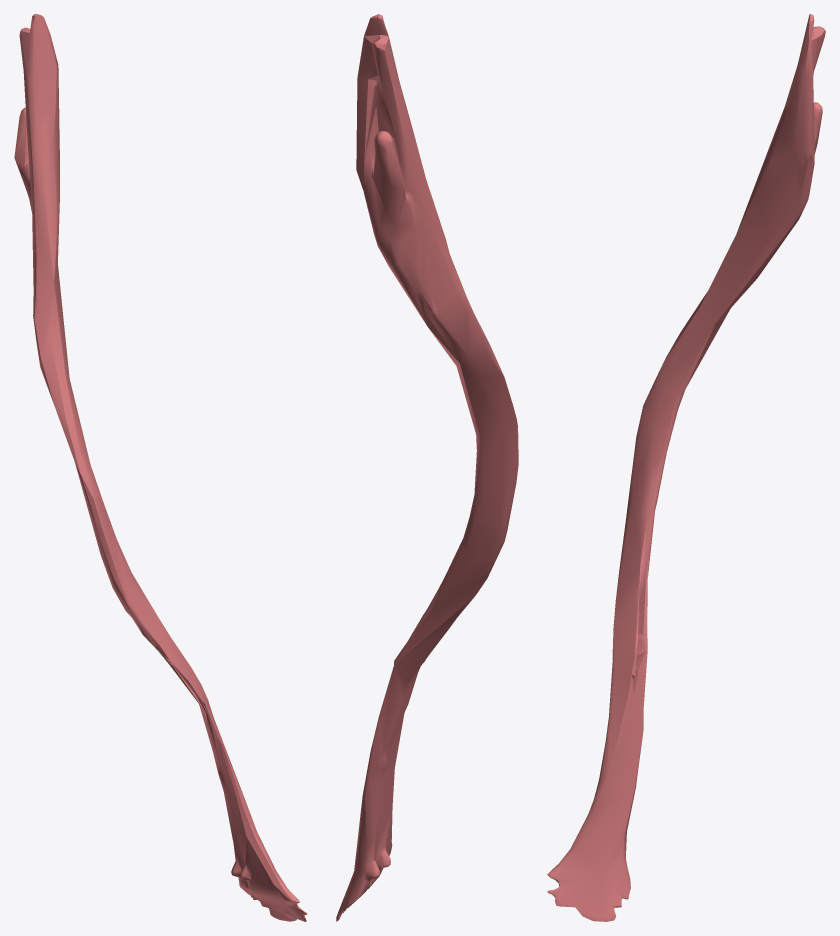
The picture shows the model from 3 angles, left to right: view 1: azimuth 30°, elevation 25°; view 2: azimuth 150°, elevation 25°; view 3: azimuth 270°, elevation 25°; orthographic projection. The views are drawn at different scales.
Visible parts, largest first — view 1: FJ1411M; view 2: FJ1411M; view 3: FJ1411M.
Part boxes in pixels (<box>): FJ1411M: <box>14,14,307,921</box>; FJ1411M: <box>336,14,518,921</box>; FJ1411M: <box>547,14,825,921</box>.
Bounding box in the file's own units: 0.0299 × 0.1321 × 0.0397.
